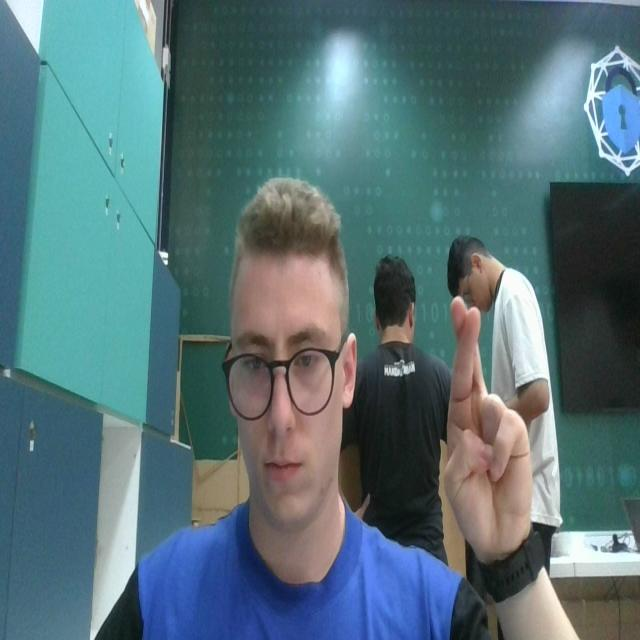R: (443, 295, 535, 567)
